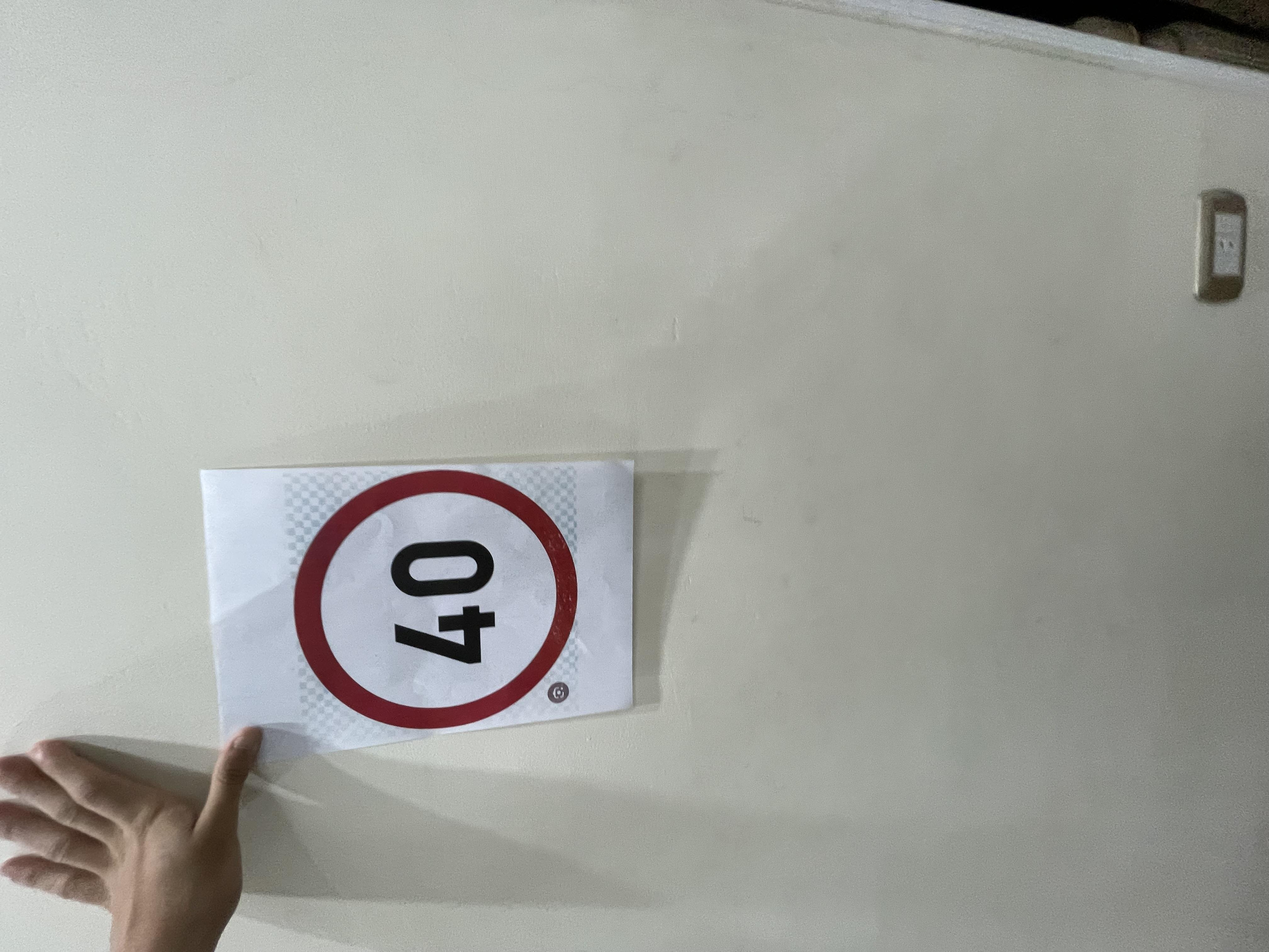40-Speed: (297, 218, 644, 437)
